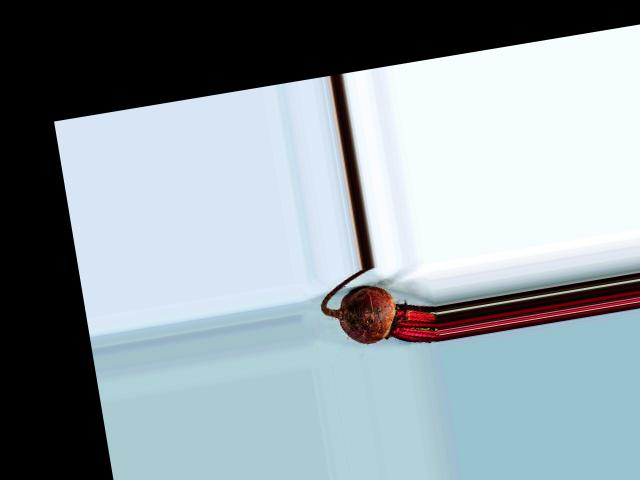beet: (316, 258, 442, 359)
